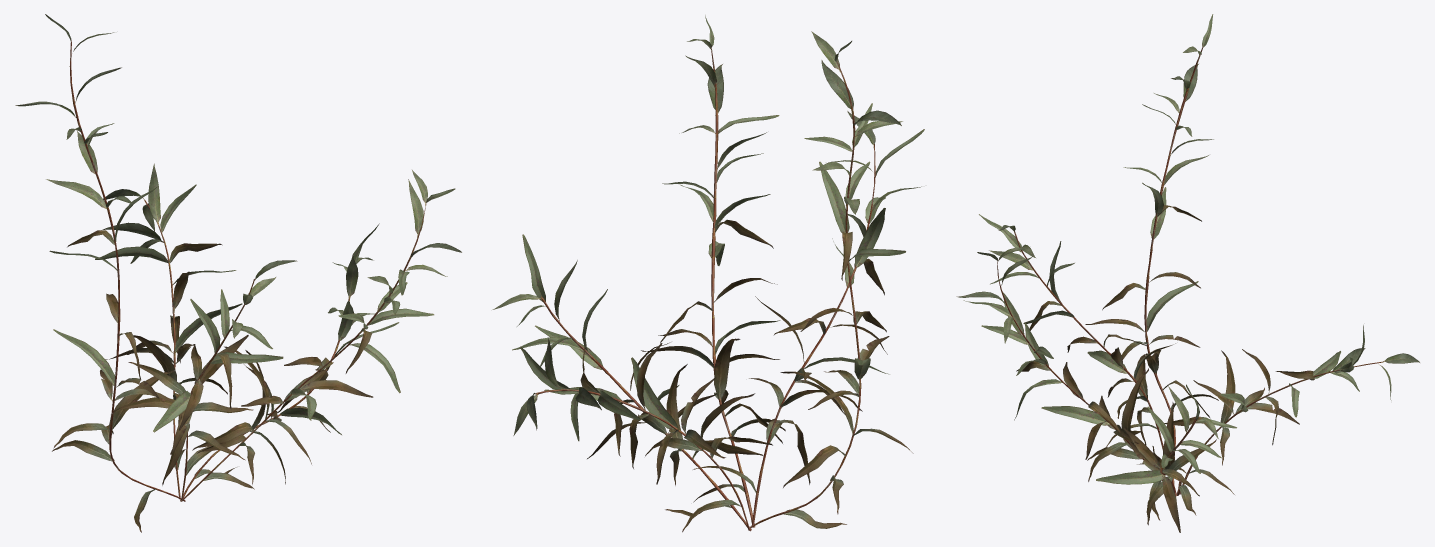
The model's file is broadleaf-shrub-a.glb.
3 renders of one model, left to right at view 1: azimuth 30°, elevation 25°; view 2: azimuth 150°, elevation 25°; view 3: azimuth 270°, elevation 25°, orthographic. The views are drawn at different scales.
Visible parts, largest first — view 1: shrub_02_a; view 2: shrub_02_a; view 3: shrub_02_a.
Boxes of the visible parts, bbox=[...] form: shrub_02_a: bbox=[15, 14, 461, 532]; shrub_02_a: bbox=[492, 15, 924, 532]; shrub_02_a: bbox=[956, 14, 1419, 532].
Size of the model in its own units: 1.31 by 1.69 by 1.64.
Materials: 1 (1 with a texture image).
